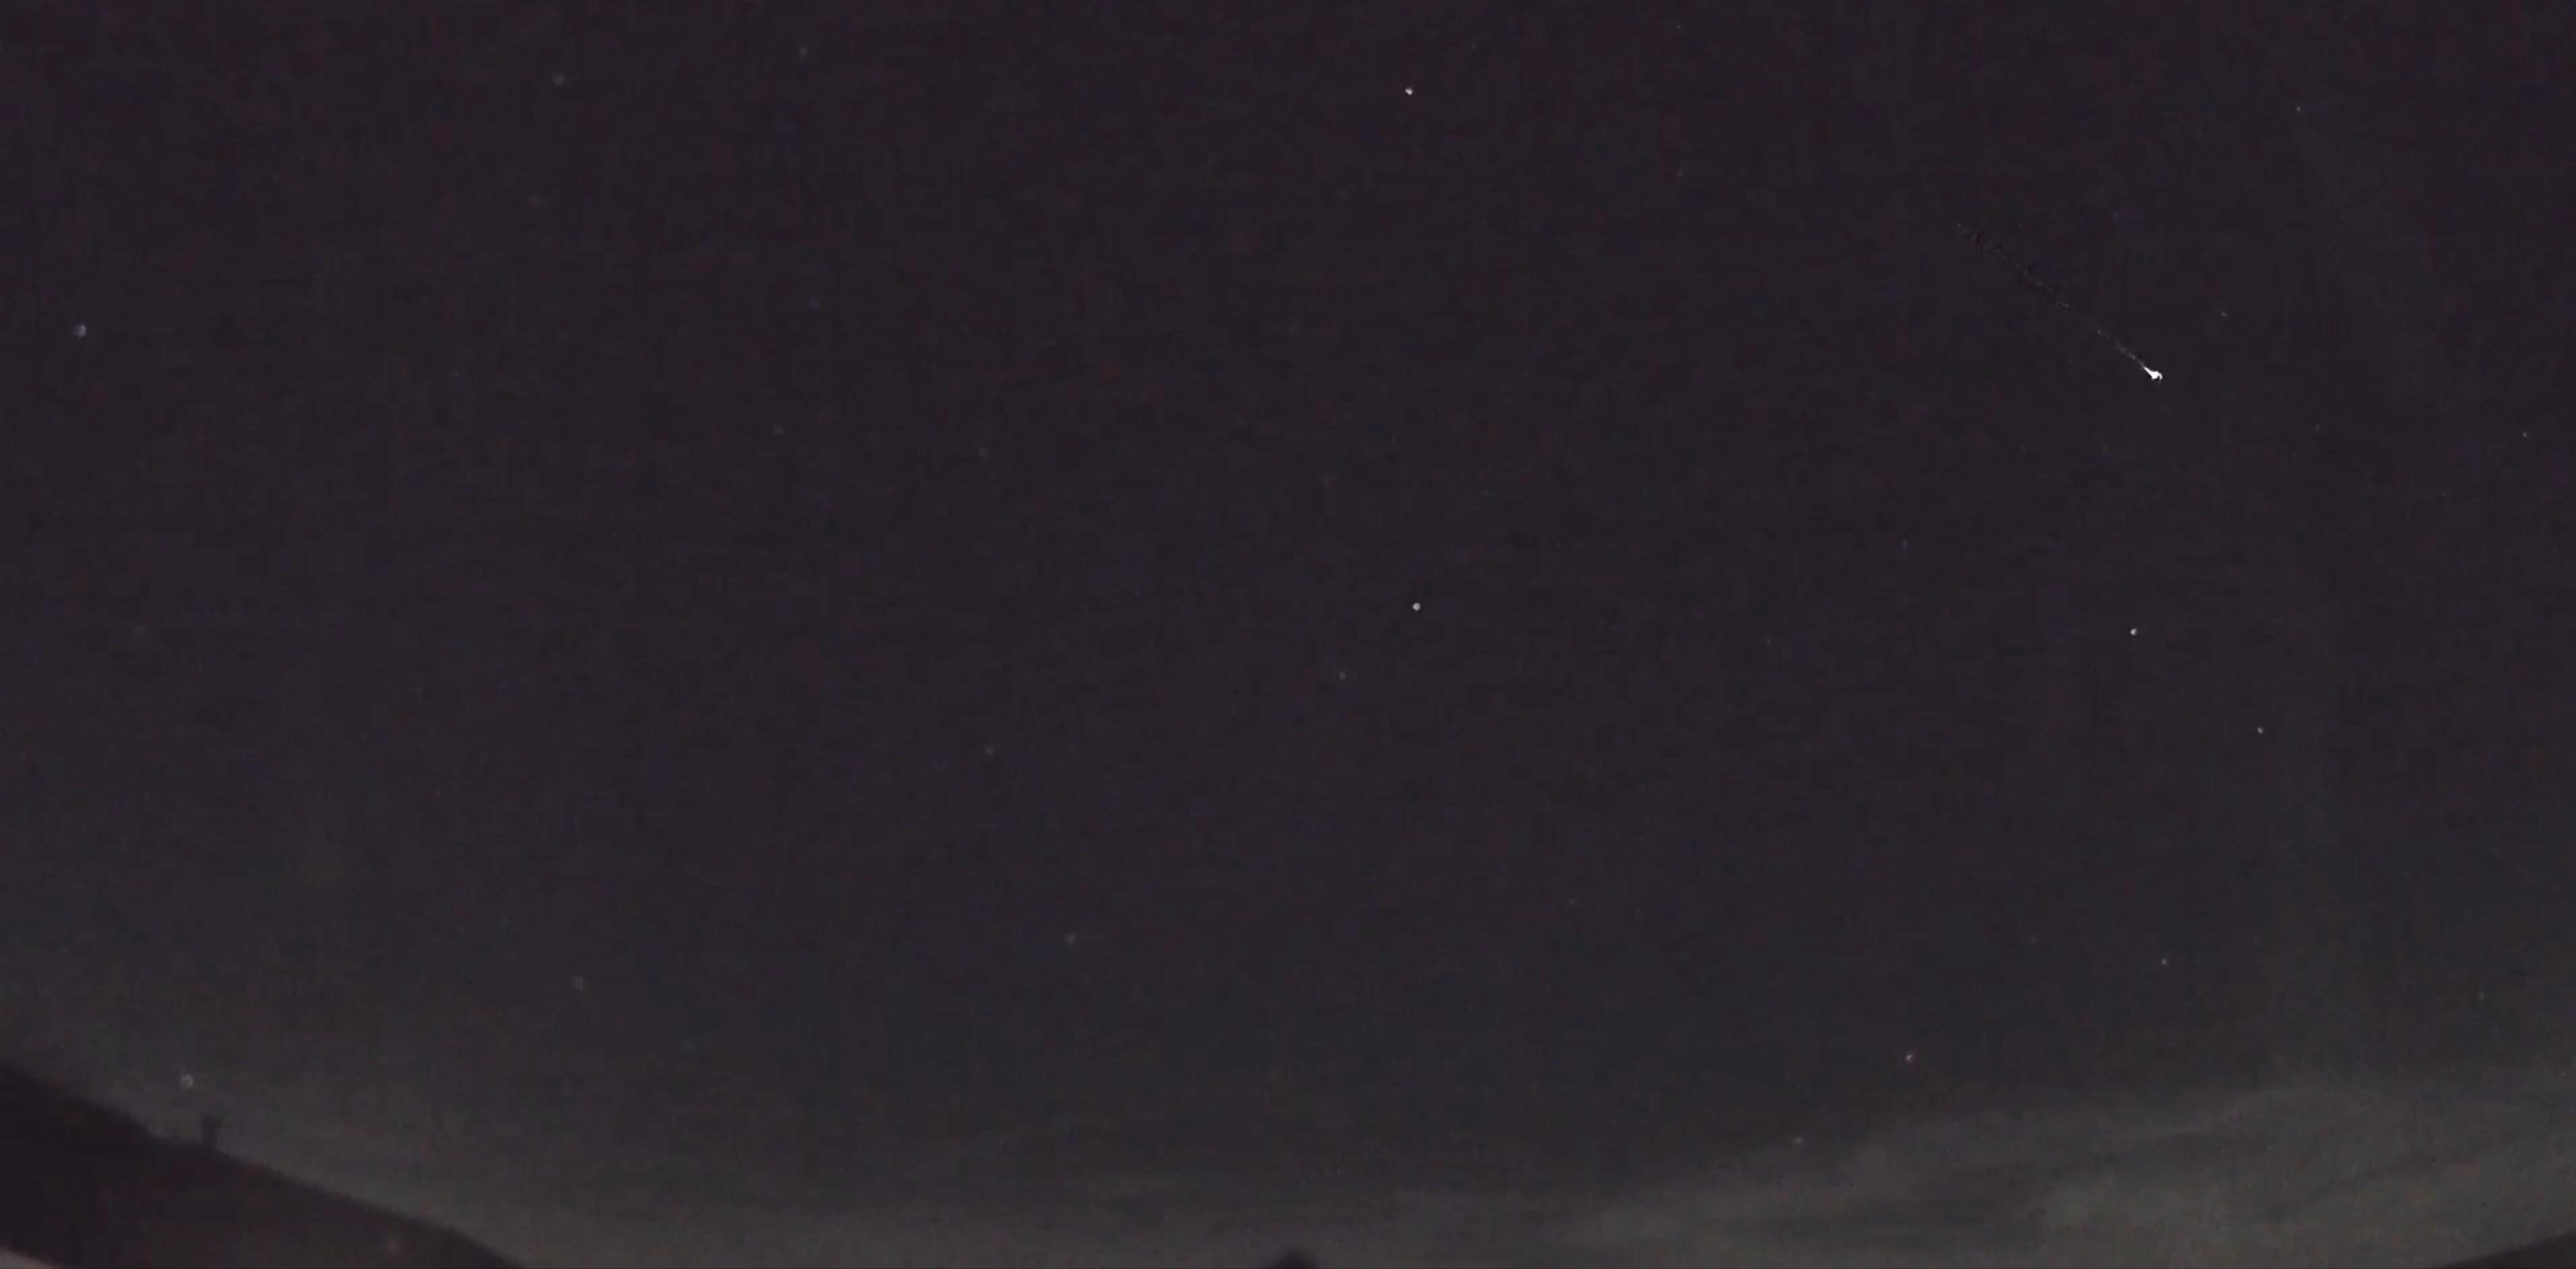meteorite: (2065, 327, 2200, 394)
